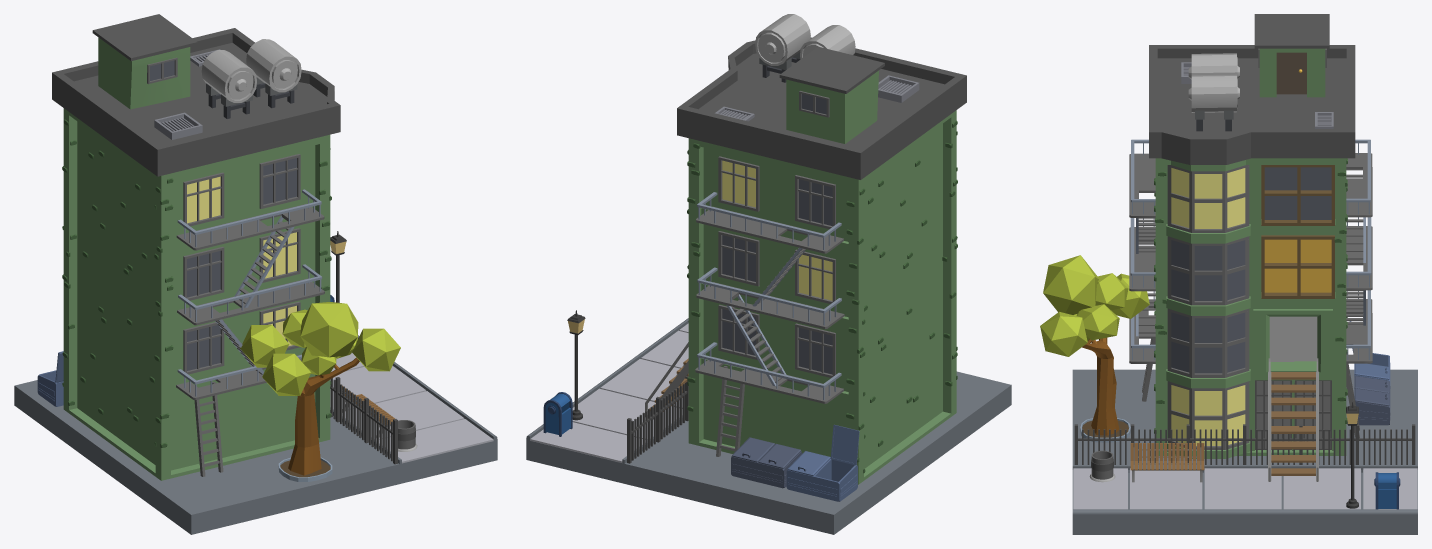
The model's file is apartment.glb.
3 renders of one model, left to right at view 1: azimuth 30°, elevation 25°; view 2: azimuth 150°, elevation 25°; view 3: azimuth 270°, elevation 25°, orthographic. The views are drawn at different scales.
Parts seen in each view (by area): view 1: box_50, box_0, box_156, box_159, box_160, icosahedron_189, cylinder_183, box_154, box_152, box_106, box_153, box_344 (+24 smaller); view 2: box_50, box_0, box_156, box_159, box_160, box_151, box_150, box_100, box_103, box_169, box_333, box_270 (+25 smaller); view 3: box_0, box_156, box_50, box_303, box_293, box_297, box_318, box_321, box_152, box_305, box_153, box_151 (+43 smaller).
Boxes of the visible parts, left/top/right/bottom form: box_50: left=63, top=108, right=330, bottom=480; box_0: left=14, top=335, right=497, bottom=534; box_156: left=52, top=28, right=340, bottom=176; box_159: left=98, top=37, right=190, bottom=109; box_160: left=92, top=14, right=197, bottom=61; icosahedron_189: left=300, top=302, right=358, bottom=357; cylinder_183: left=288, top=357, right=359, bottom=475; box_154: left=379, top=419, right=493, bottom=463; box_152: left=330, top=365, right=426, bottom=409; box_106: left=176, top=203, right=324, bottom=250; box_153: left=342, top=391, right=464, bottom=440; box_344: left=201, top=50, right=256, bottom=102; box_50: left=688, top=110, right=956, bottom=484; box_0: left=526, top=318, right=1011, bottom=534; box_156: left=677, top=37, right=966, bottom=179; box_159: left=786, top=70, right=878, bottom=143; box_160: left=779, top=46, right=884, bottom=93; box_151: left=572, top=388, right=682, bottom=439; box_150: left=530, top=422, right=645, bottom=462; box_100: left=696, top=206, right=843, bottom=253; box_103: left=696, top=282, right=844, bottom=328; box_169: left=786, top=459, right=857, bottom=501; box_333: left=755, top=14, right=810, bottom=65; box_270: left=695, top=357, right=843, bottom=403; box_0: left=1072, top=369, right=1417, bottom=534; box_156: left=1149, top=45, right=1355, bottom=164; box_50: left=1155, top=158, right=1346, bottom=455; box_303: left=1171, top=312, right=1245, bottom=373; box_293: left=1171, top=240, right=1245, bottom=300; box_297: left=1171, top=168, right=1245, bottom=228; box_318: left=1264, top=239, right=1331, bottom=292; box_321: left=1264, top=167, right=1331, bottom=219; box_152: left=1204, top=468, right=1281, bottom=509; box_305: left=1171, top=385, right=1245, bottom=445; box_153: left=1130, top=468, right=1202, bottom=509; box_151: left=1283, top=468, right=1360, bottom=509.
Bounding box in the file's own units: 20.37 × 25.46 × 22.31.
